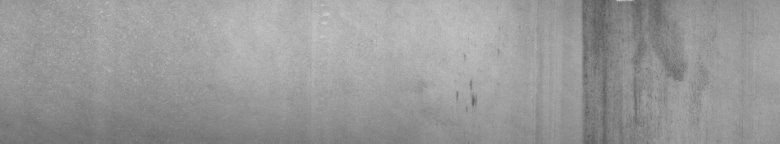ka: (576, 4, 688, 136)
